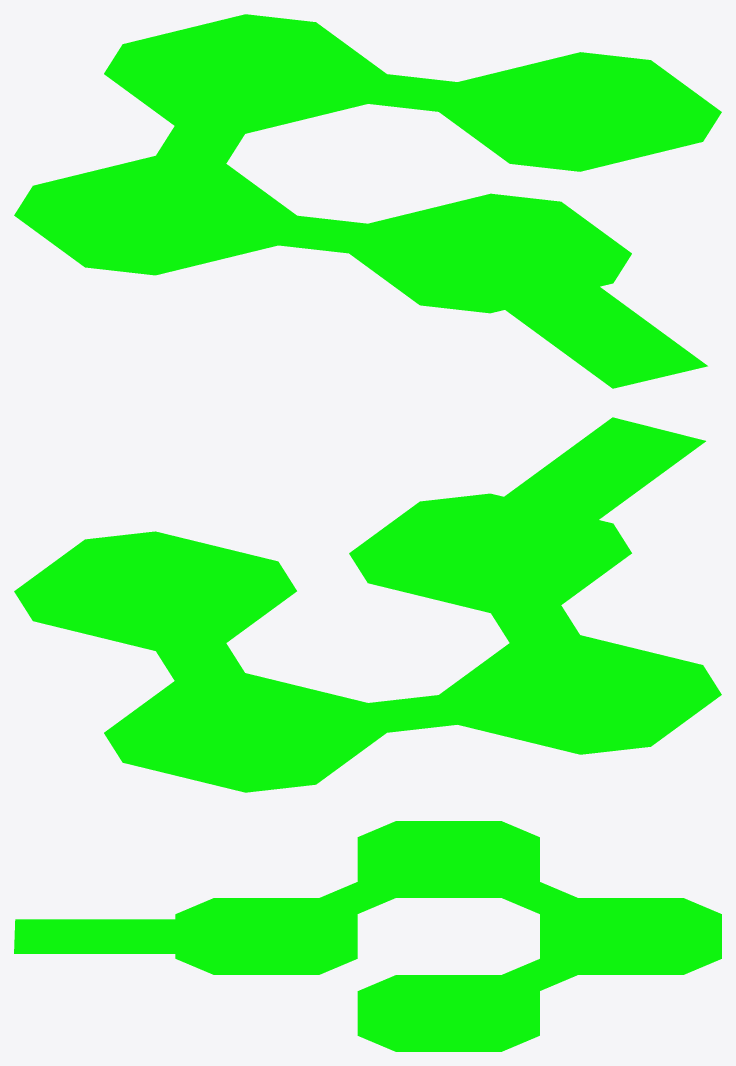
Rendered from s02a_nc2-floor.glb.
3 views of the same model, one above another, from view 1: azimuth 30°, elevation 25°; view 2: azimuth 150°, elevation 25°; view 3: azimuth 270°, elevation 25° (orthographic). The views are drawn at different scales.
Parts seen in each view (by area): view 1: collision_floor-colonly; view 2: collision_floor-colonly; view 3: collision_floor-colonly.
Part boxes in pixels (bbox=[...]): collision_floor-colonly: bbox=[14, 14, 721, 388]; collision_floor-colonly: bbox=[14, 417, 721, 792]; collision_floor-colonly: bbox=[14, 821, 721, 1051].
Bounding box in the file's own units: 40.3 × 0 × 52.21.
